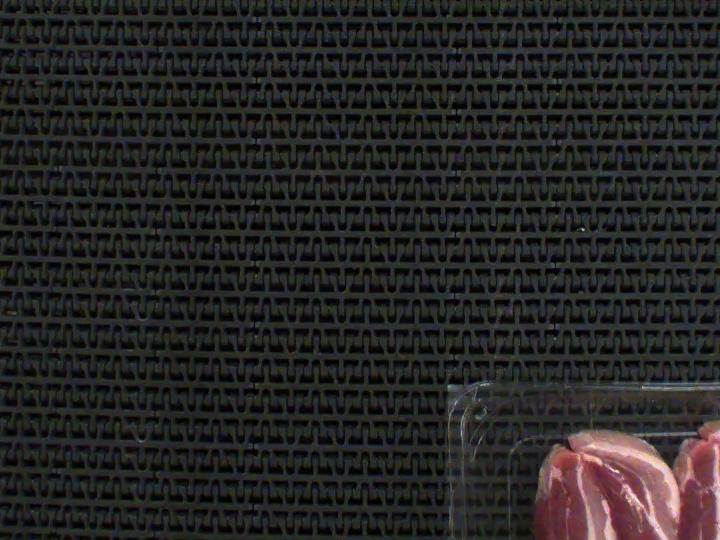packaging-error: (707, 398, 720, 428)
